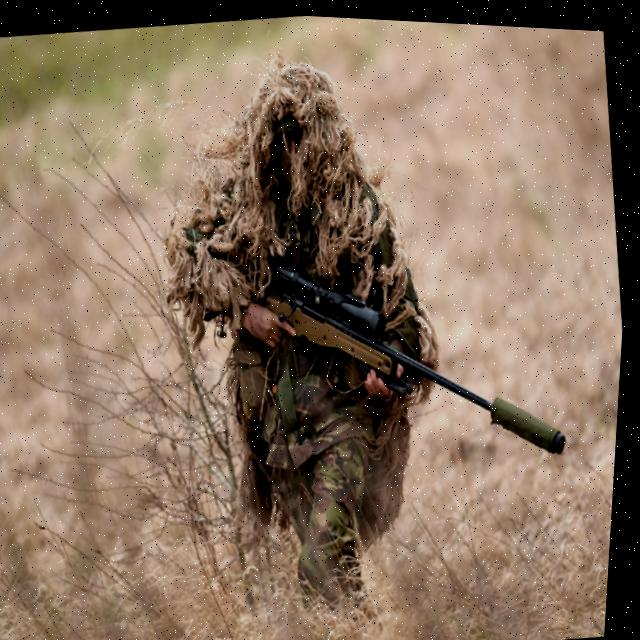firearm: (253, 226, 582, 482)
